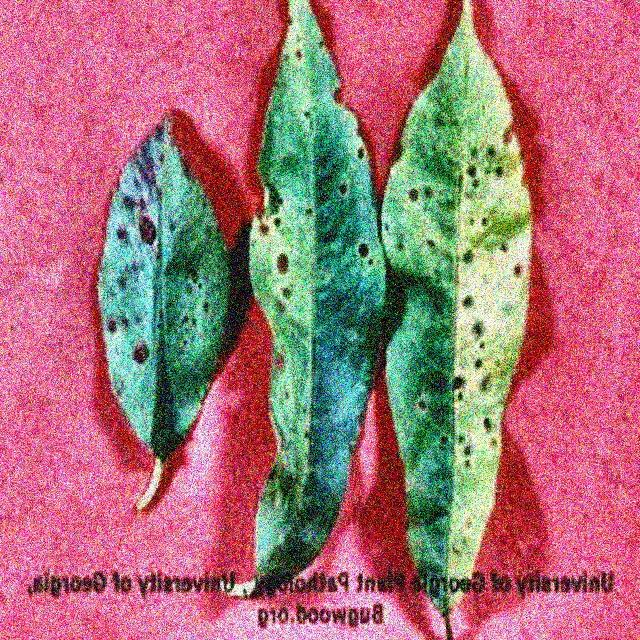shot_hole: (243, 0, 389, 568), (391, 1, 537, 569), (90, 134, 217, 456)
